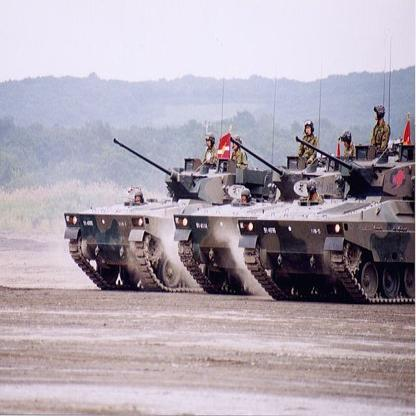Tank: (59, 120, 255, 305), (256, 123, 416, 308)
